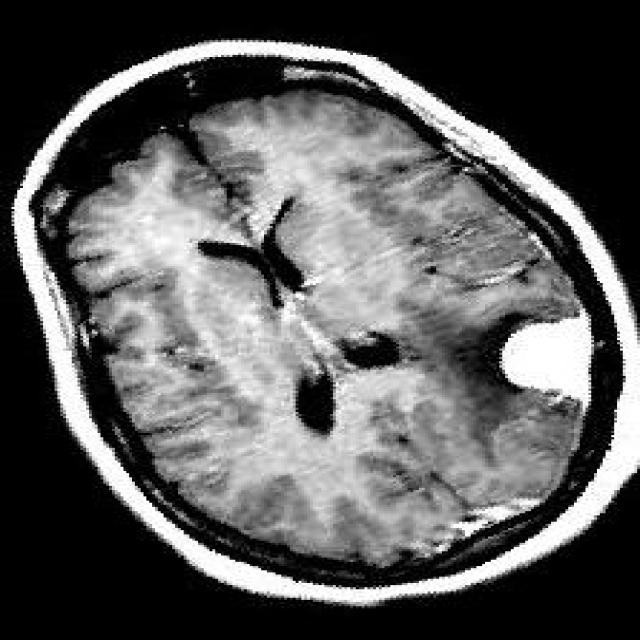Tumor-Cell: (502, 319, 586, 403)
